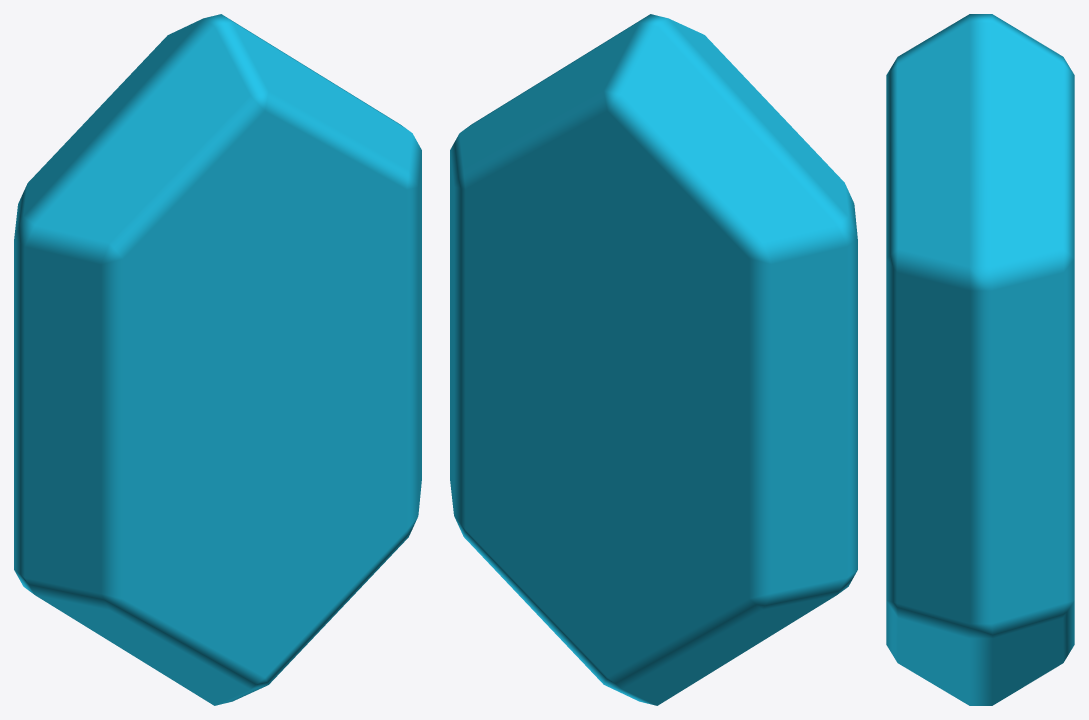
The model's file is crystal3-1notex.fbx.
3 renders of one model, left to right at view 1: azimuth 30°, elevation 25°; view 2: azimuth 150°, elevation 25°; view 3: azimuth 270°, elevation 25°, orthographic.
Parts seen in each view (by area): view 1: crystal3-1notex; view 2: crystal3-1notex; view 3: crystal3-1notex.
Boxes of the visible parts, x1,y1,x2,y2 form: crystal3-1notex: [14, 14, 421, 705]; crystal3-1notex: [450, 14, 857, 705]; crystal3-1notex: [886, 14, 1074, 705].
Size of the model in its own units: 0.2885 by 0.4717 by 0.1179.
